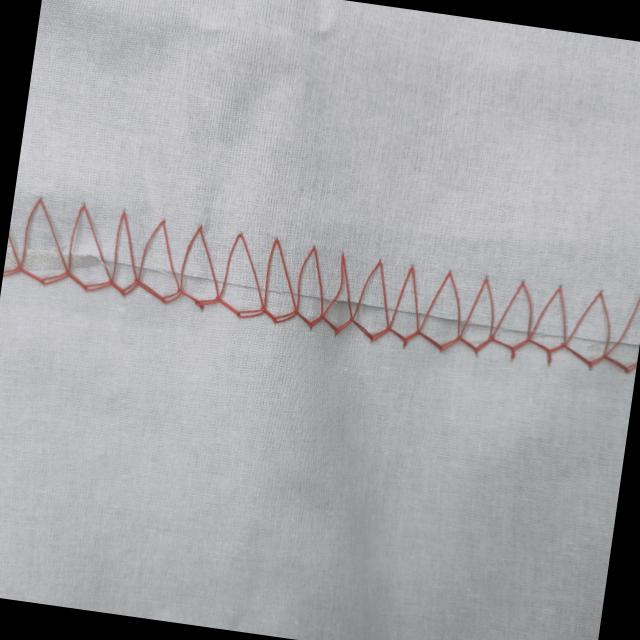gray stitch: (2, 180, 640, 381)
